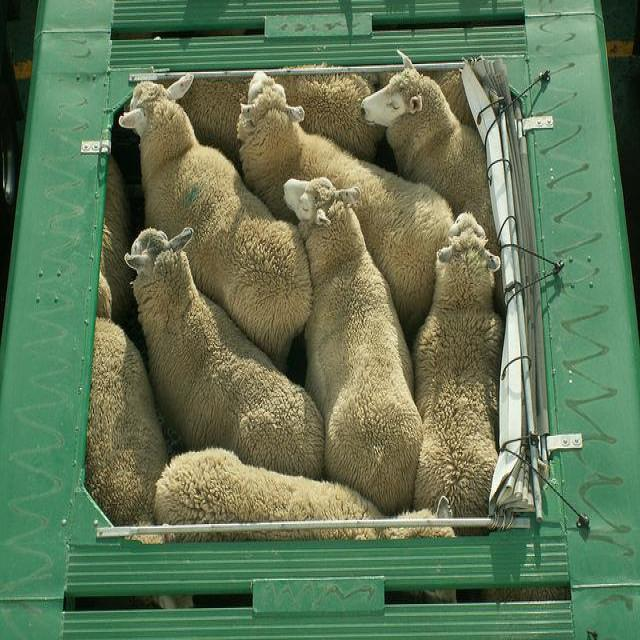Sheep: (111, 69, 316, 372), (234, 68, 455, 345), (119, 228, 324, 485), (150, 448, 457, 615), (283, 175, 426, 520), (359, 47, 508, 260), (414, 207, 501, 521), (85, 316, 167, 545), (182, 72, 383, 161), (91, 152, 140, 324)
